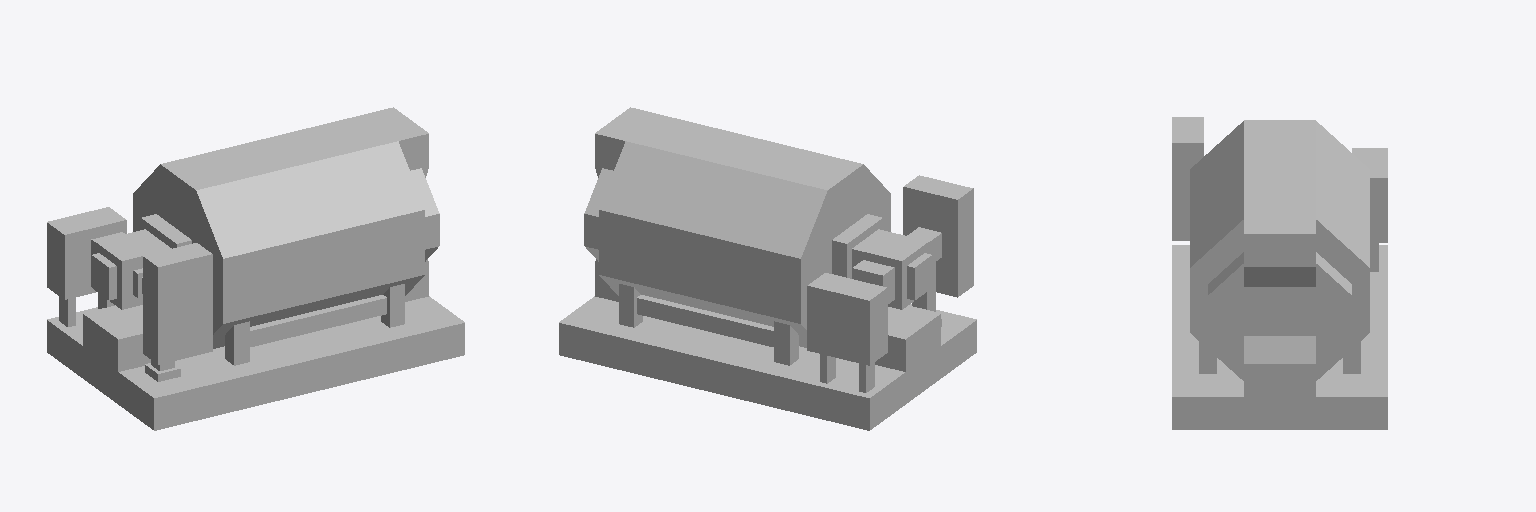
File: boiler_mirrored.obj
3 views of the same model, side by side, from view 1: azimuth 30°, elevation 25°; view 2: azimuth 150°, elevation 25°; view 3: azimuth 270°, elevation 25° (orthographic).
Visible parts, largest first — view 1: cuboid; view 2: cuboid; view 3: cuboid.
Part boxes in pixels (bbox=[...]): cuboid: bbox=[47, 107, 464, 430]; cuboid: bbox=[559, 107, 976, 430]; cuboid: bbox=[1172, 117, 1387, 429].
Bounding box in the file's own units: 5 × 3 × 3.